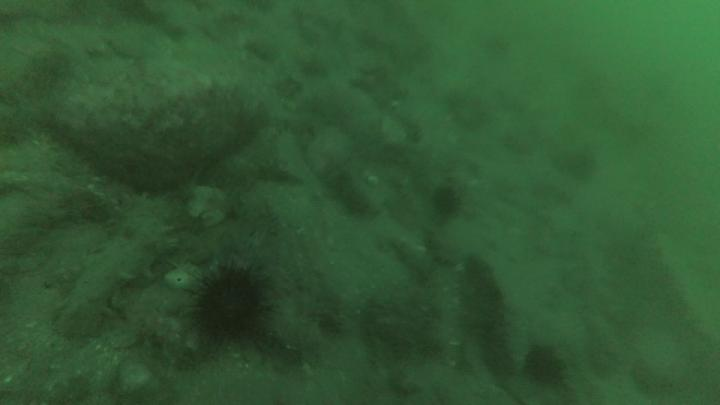echinus: (180, 258, 285, 352)
